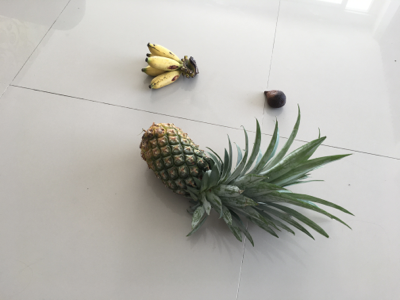banana: (142, 43, 200, 92)
pineapple: (139, 106, 355, 244)
snake fruit: (263, 90, 287, 109)
